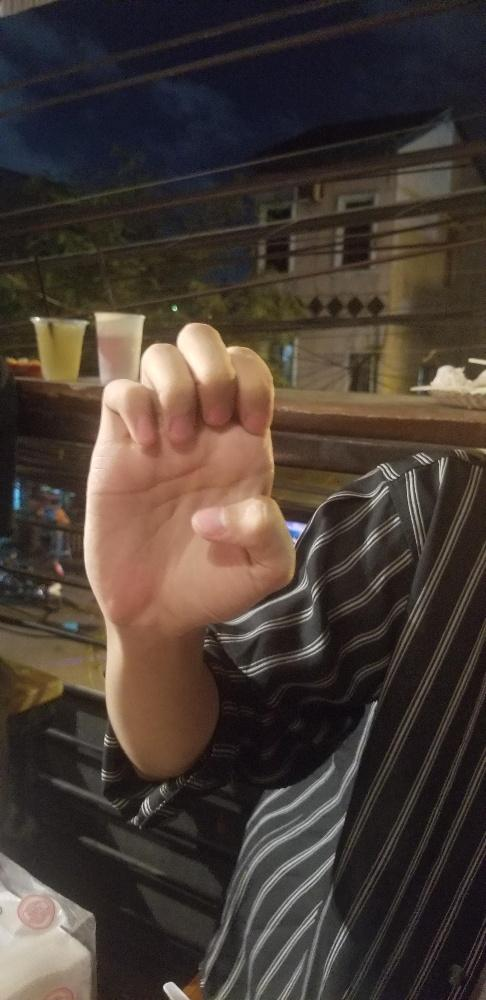e: (81, 321, 295, 629)
